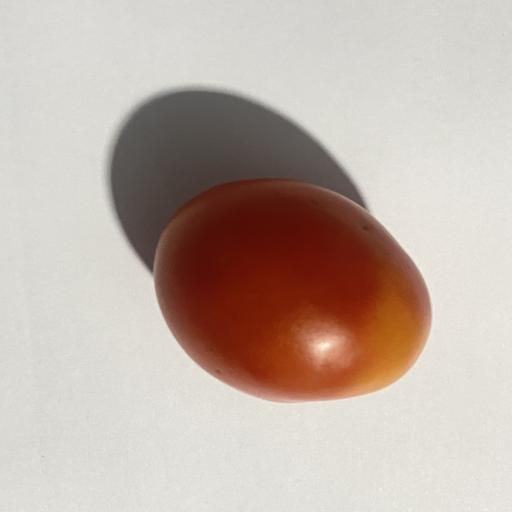ripe: (154, 179, 431, 402)
